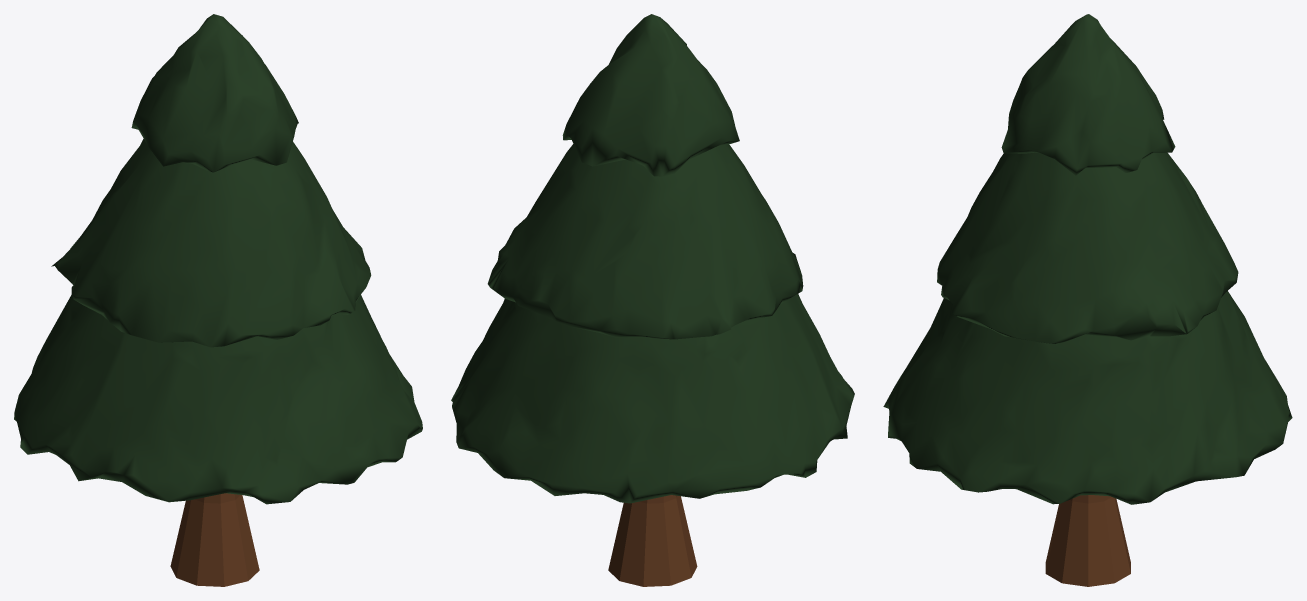
File: SM_TestTree2.fbx
The picture shows the model from 3 angles, left to right: view 1: azimuth 30°, elevation 25°; view 2: azimuth 150°, elevation 25°; view 3: azimuth 270°, elevation 25°; orthographic projection.
Parts seen in each view (by area): view 1: pCone4, pCylinder2; view 2: pCone4, pCylinder2; view 3: pCone4, pCylinder2.
Boxes of the visible parts, x1=… form: pCone4: x1=14, y1=14, x2=422, y2=504; pCylinder2: x1=170, y1=493, x2=259, y2=586; pCone4: x1=451, y1=14, x2=854, y2=503; pCylinder2: x1=608, y1=495, x2=697, y2=586; pCone4: x1=883, y1=14, x2=1292, y2=504; pCylinder2: x1=1045, y1=495, x2=1130, y2=586.
Bounding box in the file's own units: 8.97 × 13.48 × 9.03.
